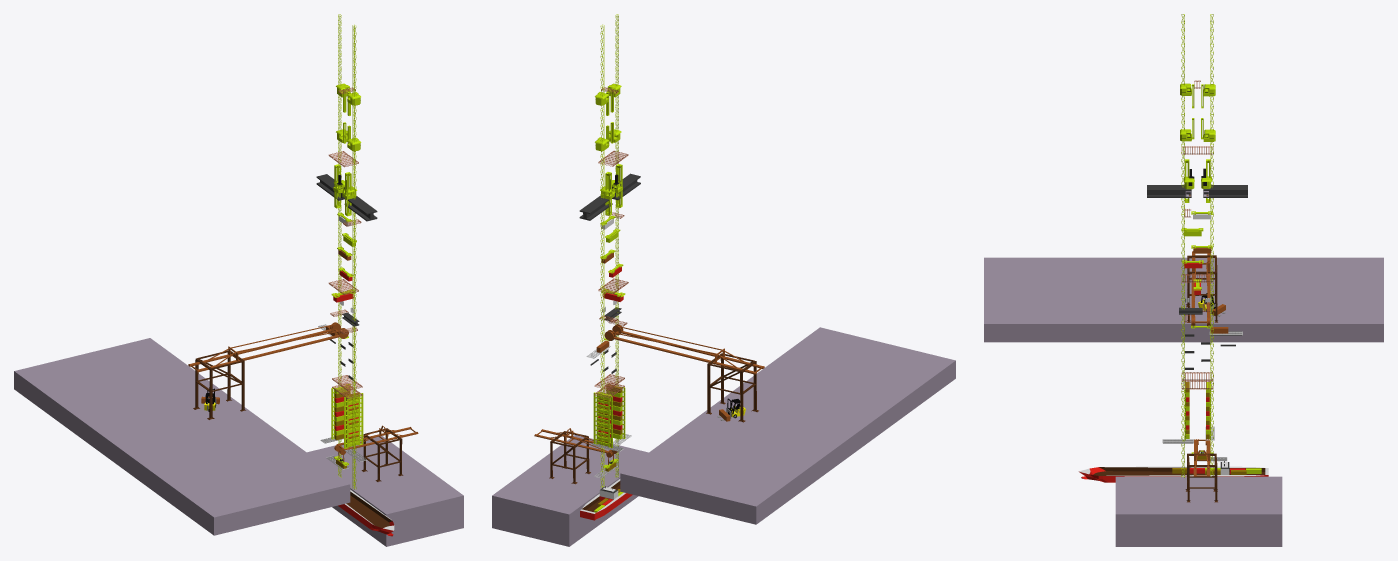
File: Assets for level2 docks 3D models only.fbx
3 renders of one model, left to right at view 1: azimuth 30°, elevation 25°; view 2: azimuth 150°, elevation 25°; view 3: azimuth 270°, elevation 25°, orthographic.
Parts seen in each view (by area): view 1: Cube.015, Cube.004, Walls, Cube.012, Cube.014, Cube.085, Cube.003, Crane platform.003; view 2: Cube.015, Cube.004, Walls, Cube.012, Cube.014, Cube.085, Cube.003, Crane platform.002; view 3: Cube.015, Cube.004, Walls, Cube.003, Cube.085, Cube.014, Plane.002, Plane.003, Cube.012.
Part boxes in pixels (x1,y1,x2,y2): Cube.015: (14,338,350,535); Cube.004: (307,436,463,546); Walls: (338,14,356,489); Cube.012: (188,324,341,372); Cube.014: (193,350,245,419); Cube.085: (336,425,418,481); Cube.003: (338,489,394,536); Crane platform.003: (344,393,363,448); Cube.015: (620,327,955,524); Cube.004: (492,435,648,546); Walls: (600,14,618,487); Cube.012: (612,326,764,374); Cube.014: (706,353,758,422); Cube.085: (534,428,613,484); Cube.003: (580,479,632,520); Crane platform.002: (593,392,612,447); Cube.015: (984,257,1383,342); Cube.004: (1115,476,1282,546); Walls: (1181,14,1213,477); Cube.003: (1078,461,1268,482); Cube.085: (1185,439,1217,502); Cube.014: (1186,255,1217,322); Plane.002: (1147,185,1191,197); Plane.003: (1203,185,1247,197); Cube.012: (1191,251,1210,326).
Size of the model in its own units: 15546 by 23366 by 17074.
